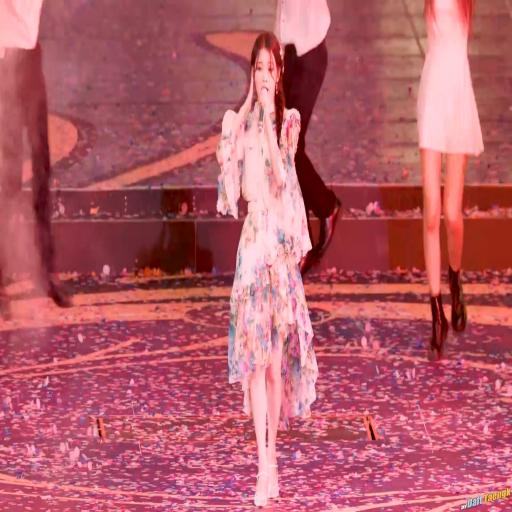IU: (250, 31, 282, 104)
